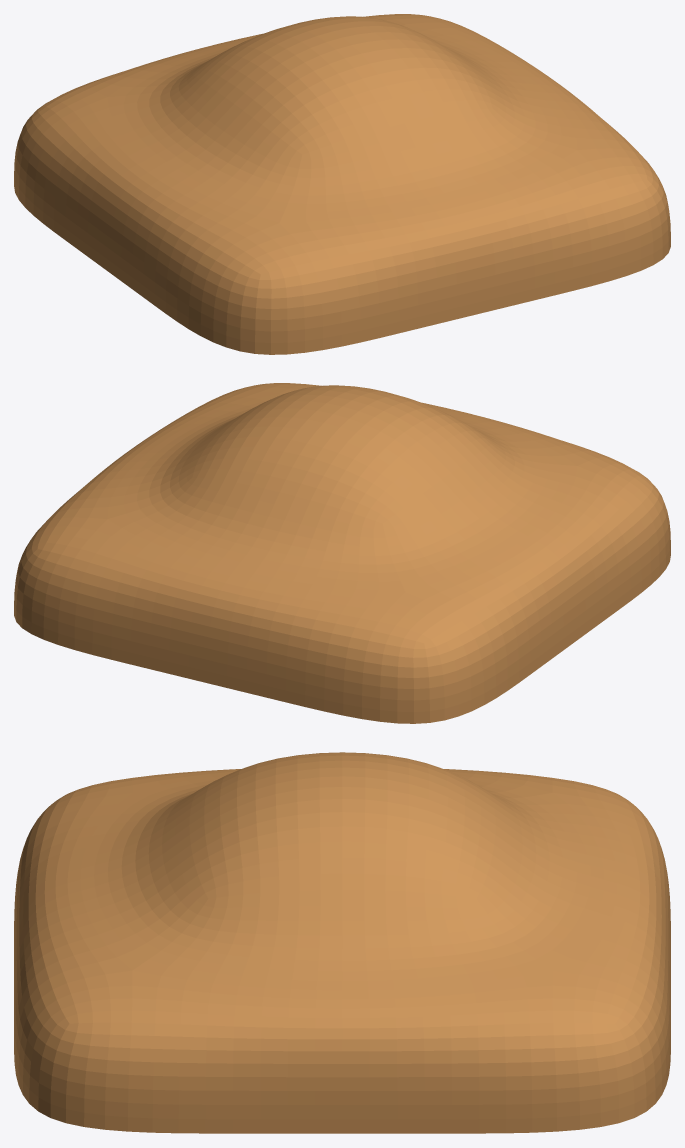
The model's file is SandPatch_Dune.fbx.
3 views of the same model, one above another, from view 1: azimuth 30°, elevation 25°; view 2: azimuth 150°, elevation 25°; view 3: azimuth 270°, elevation 25° (orthographic). The views are drawn at different scales.
Parts seen in each view (by area): view 1: SandPatch_Dune; view 2: SandPatch_Dune; view 3: SandPatch_Dune.
Part boxes in pixels (bbox=[...]): SandPatch_Dune: bbox=[14, 14, 670, 354]; SandPatch_Dune: bbox=[14, 383, 670, 723]; SandPatch_Dune: bbox=[14, 752, 670, 1133].
Bounding box in the file's own units: 8.67 × 8.67 × 3.18.
